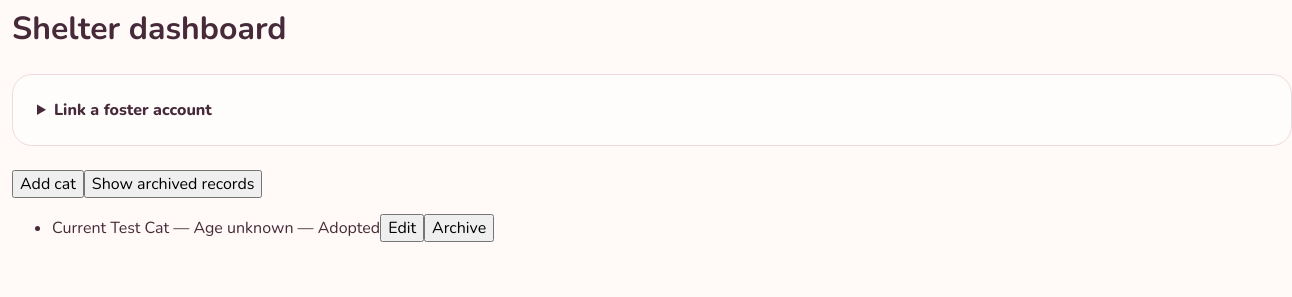
Scenario: shelter cat records › archives and restores by ID without changing adoption status or foster assignment
Click the button with aria-label "Archive Current Test Cat" at (459, 228), box [424,214,494,242]
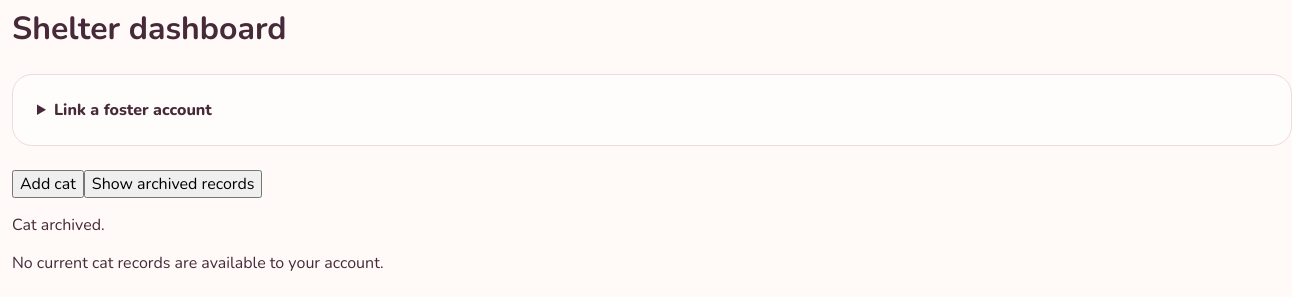
Expected: the text "Cat archived." is shown, [12,214,105,236]
Click the button "Show archived records" at (173, 184), box [84,170,262,198]
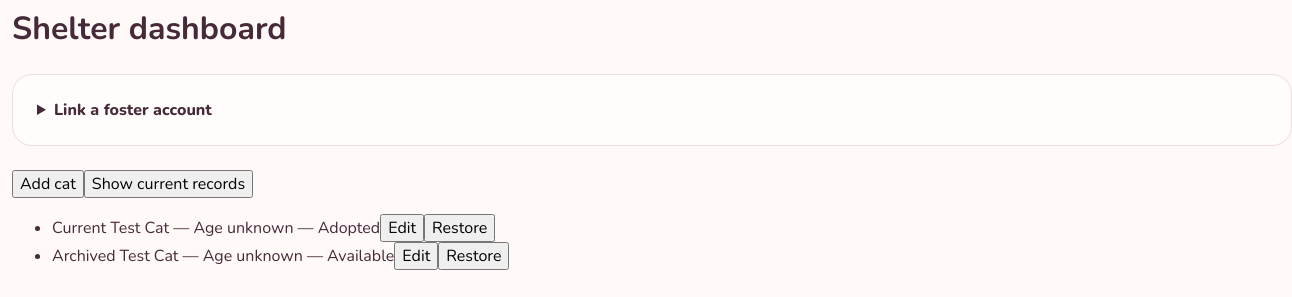
Click the button with aria-label "Restore Current Test Cat" at (460, 228), box [424,214,495,242]
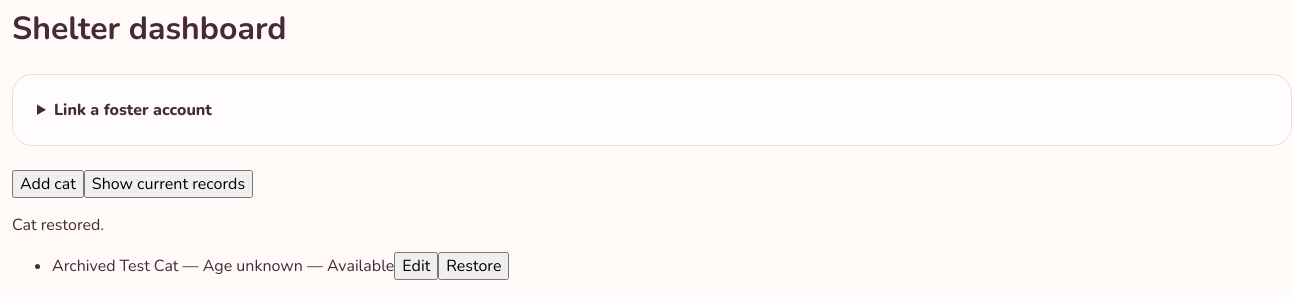
Expected: the text "Cat restored." is shown, [12,214,104,236]
Click the button "Show current records" at (168, 184), box [84,170,253,198]
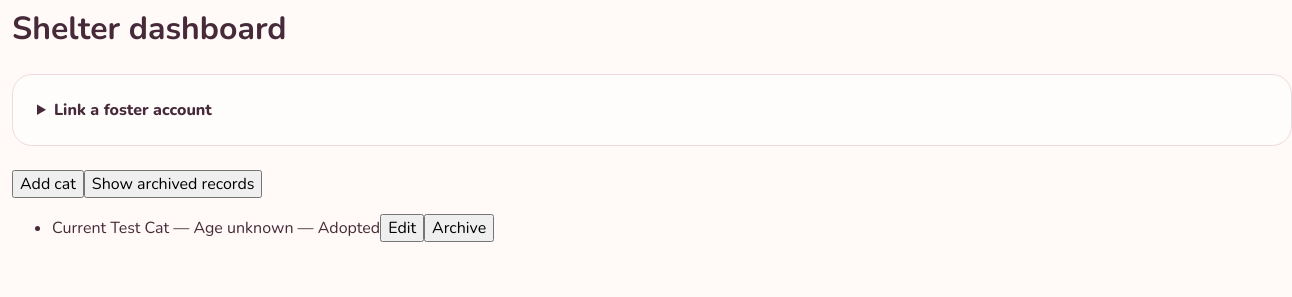
Expected: the list item shows "Adopted", [318,217,380,239]
